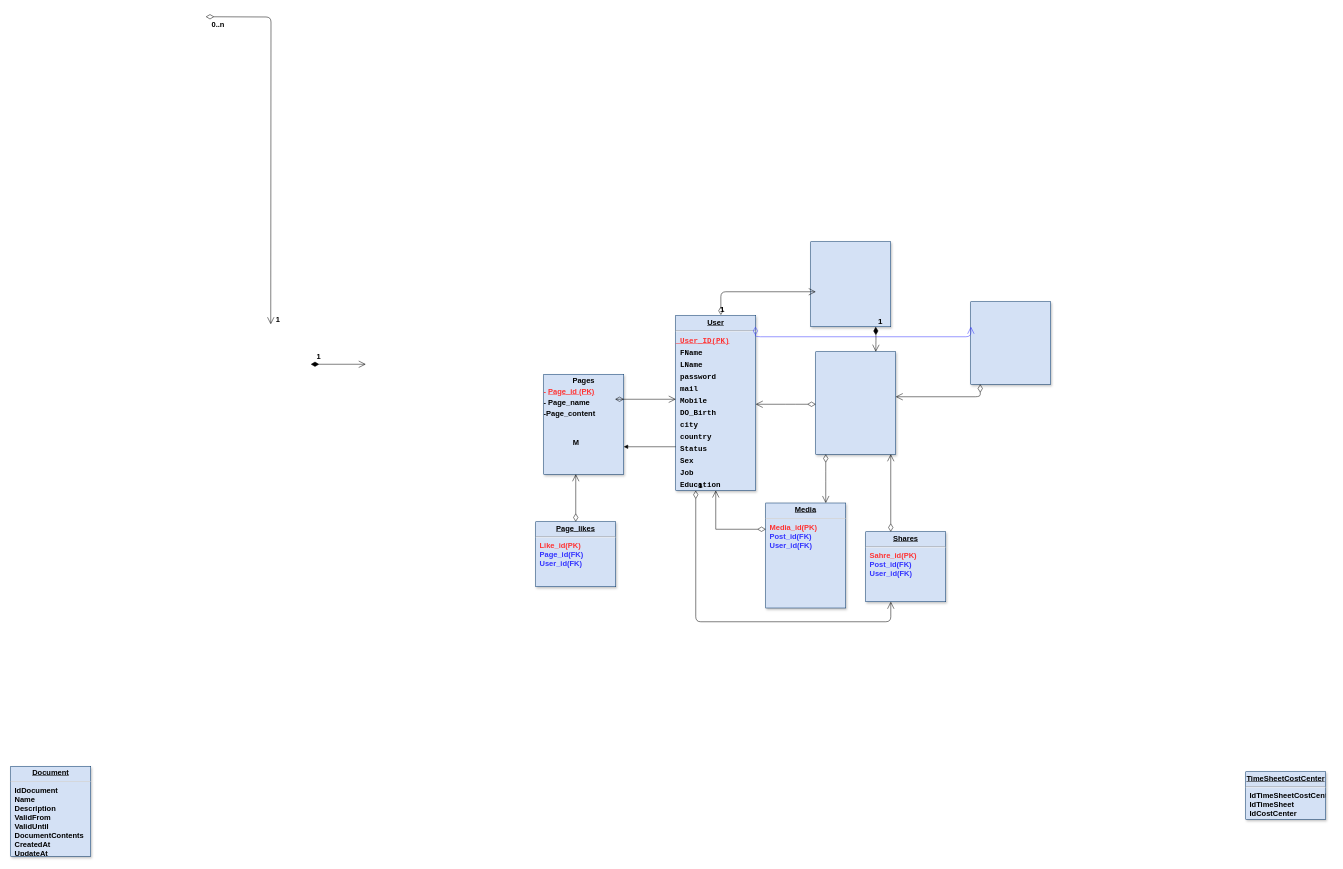
Image size: 1343x869. Some labels were removed from this diagram. Here are the shapes that lost their labels. From the top down, the centre of each, then its label:
the point at 851,284: Reactions Reaction_id(PK) Post_id(FK) User_id(FK)
the point at 1011,343: Comments Comment_id Post_id(FK) User_id(FK) Comment_date Comment_content
the point at 856,403: Posts Post_id(PK) User_id(FK) Post_date Post_content
